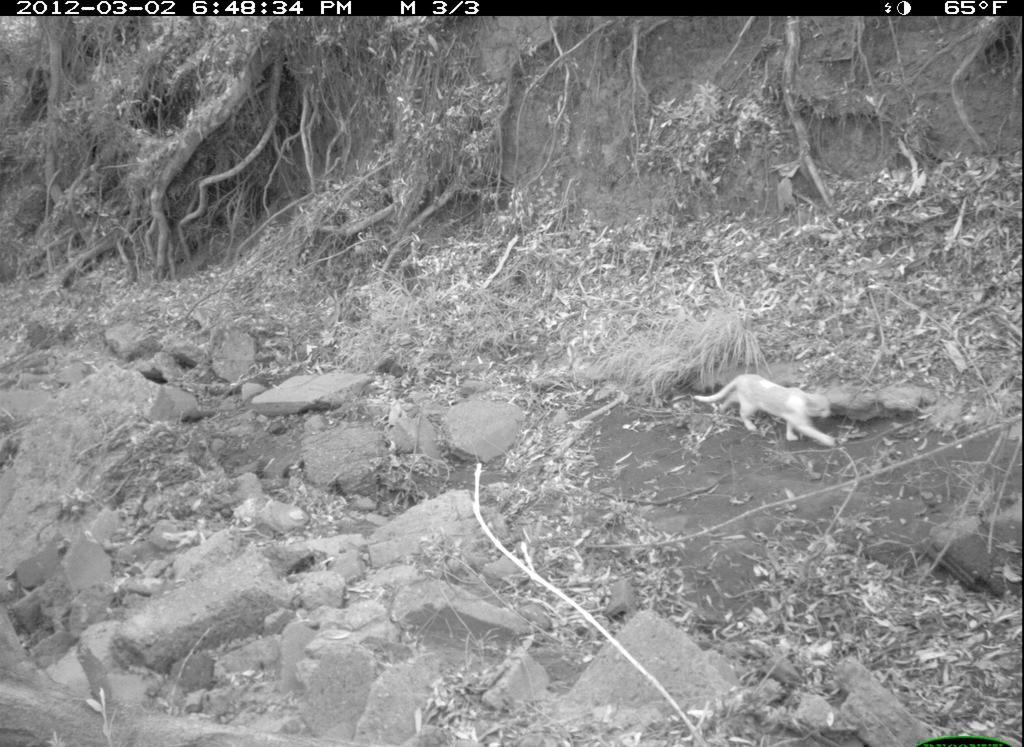cat: (688, 363, 850, 461)
